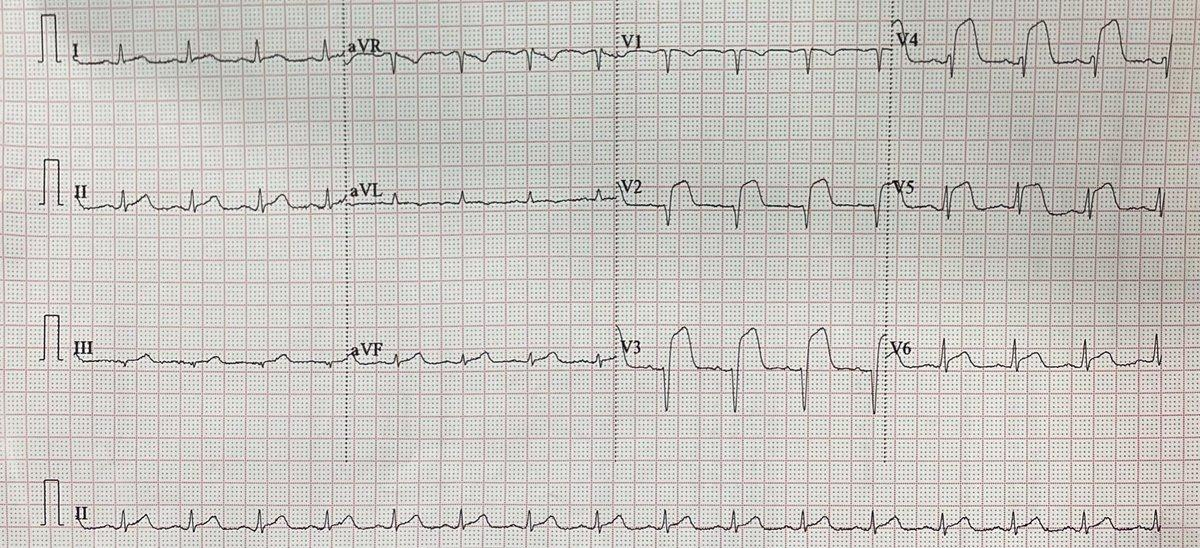Lead_I: (65, 23, 344, 96)
Lead_II: (69, 165, 348, 236)
Lead_III: (67, 323, 345, 393)
Lead_II_ext: (67, 479, 1170, 545)
Lead_V1: (615, 15, 891, 92)
Lead_V2: (611, 162, 893, 261)
Lead_V3: (615, 311, 888, 437)
Lead_V4: (894, 0, 1176, 97)
Lead_V5: (892, 156, 1173, 243)
Lead_V6: (886, 310, 1174, 391)
Lead_aVF: (343, 320, 617, 392)
Lead_aVL: (345, 164, 616, 224)
Lead_aVR: (345, 18, 615, 101)
